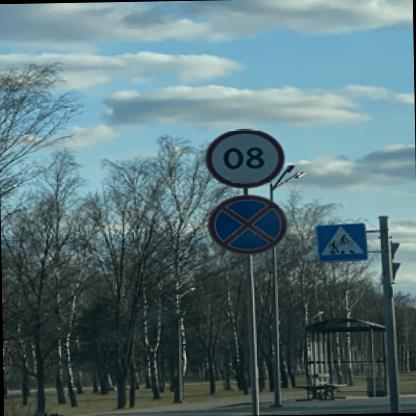crosswalk: (315, 221, 370, 262)
speedlimit: (206, 127, 286, 185)
